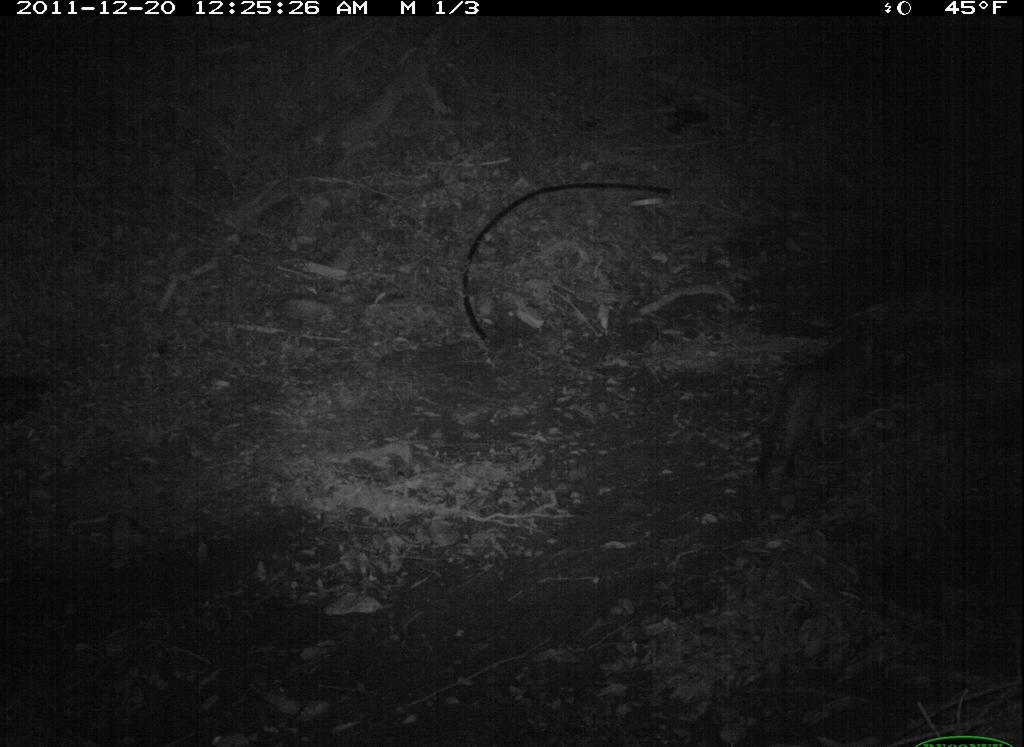cat: (749, 304, 929, 501)
